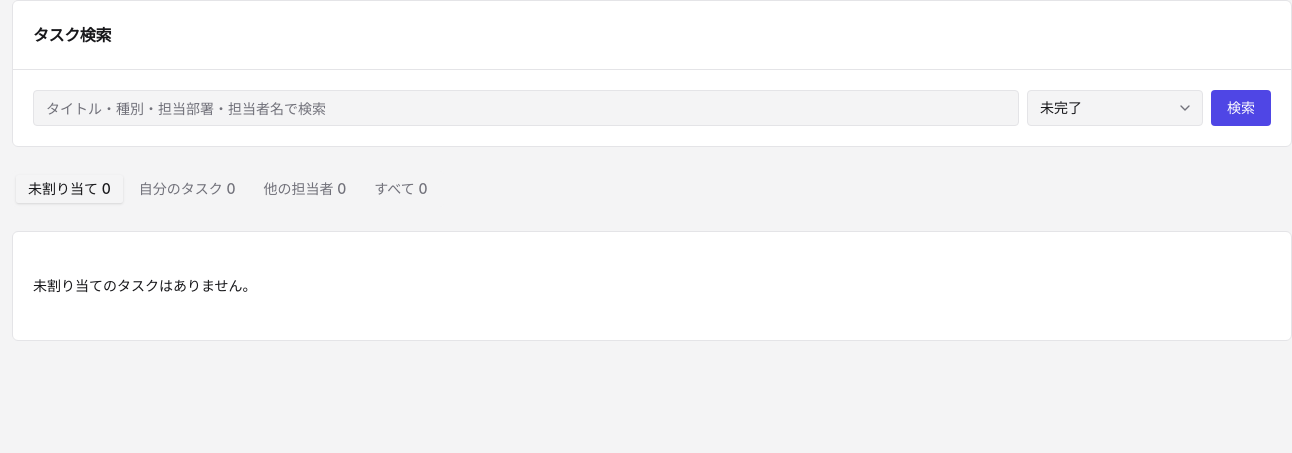
BackOfficeTaskListPage › writes the status select to the URL and passes it to the API
Check: the text "未割り当てのタスクはありません。" is shown, box top-left (33, 277), bottom-right (257, 294)
Select "完了" in the dropdown named "ステータス" at (1115,108), box top-left (1027, 90), bottom-right (1203, 126)
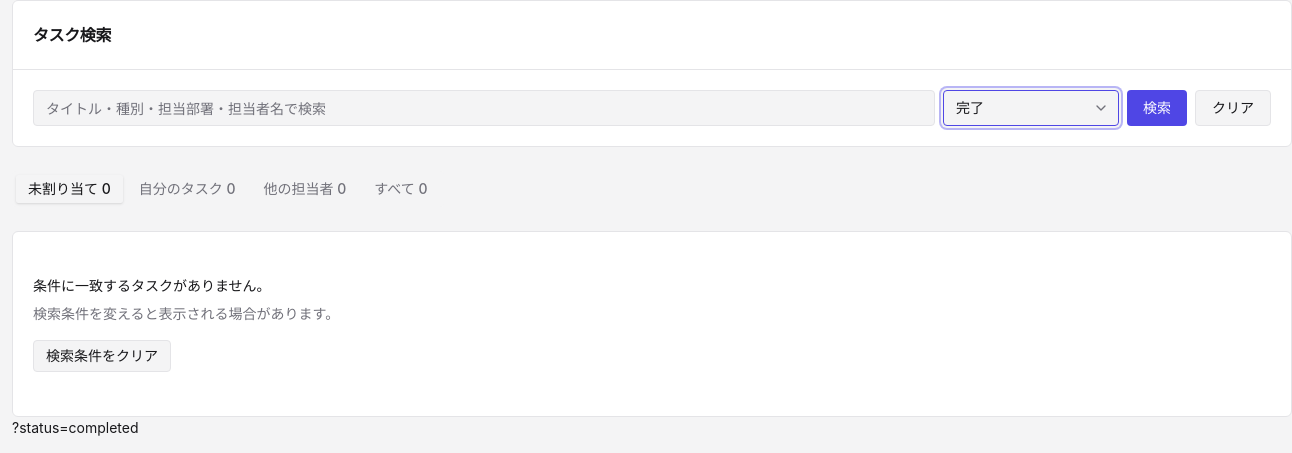
Check: the text with test id "location-search" reads "?status=completed", box top-left (12, 419), bottom-right (138, 436)
